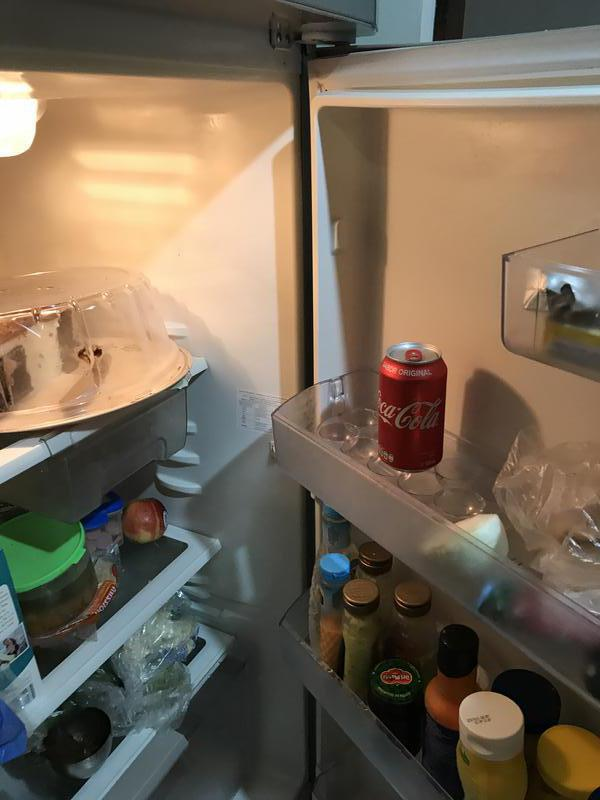coca_cola: (380, 343, 446, 472)
